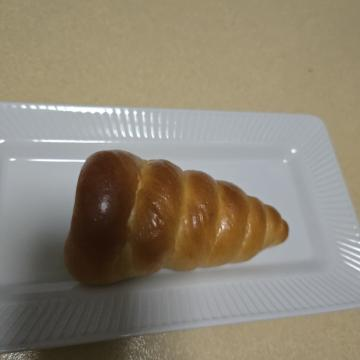cream horn: (124, 58, 306, 310)
